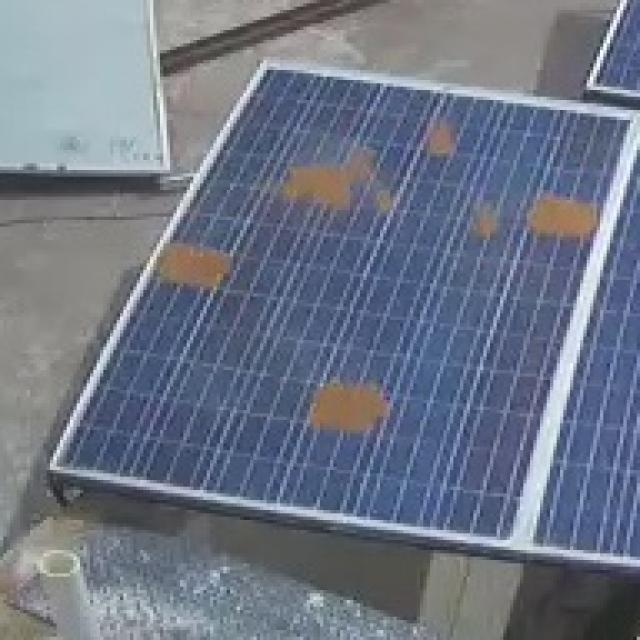Anomaly Solar Panel: (52, 63, 634, 546)
Surface Contaminant: (283, 140, 400, 224), (303, 371, 401, 440), (160, 240, 240, 296), (531, 182, 598, 246), (464, 195, 501, 248), (422, 112, 465, 157)
